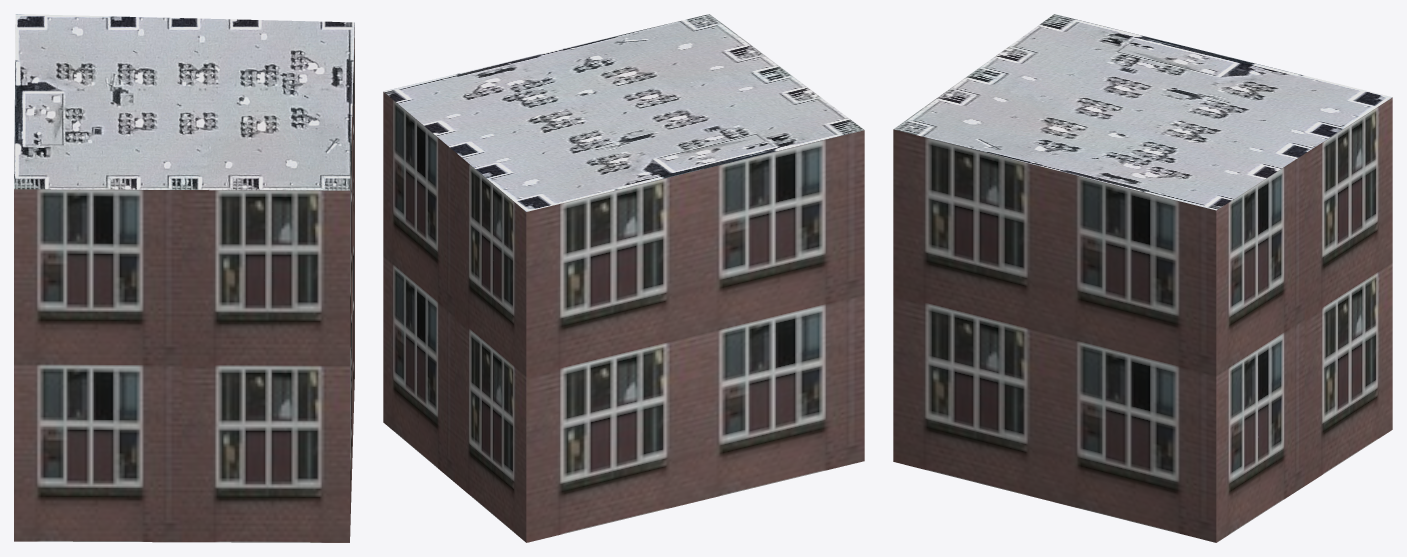
Rendered from ResTex__729.fbx.
3 views of the same model, side by side, from view 1: azimuth 30°, elevation 25°; view 2: azimuth 150°, elevation 25°; view 3: azimuth 270°, elevation 25° (orthographic). The views are drawn at different scales.
Parts seen in each view (by area): view 1: CityEngineMaterial_12_m, CityEngineMaterial_4_m; view 2: CityEngineMaterial_12_m, CityEngineMaterial_4_m; view 3: CityEngineMaterial_12_m, CityEngineMaterial_4_m.
Part boxes in pixels (x1,y1,x2,y2): CityEngineMaterial_12_m: [14, 27, 354, 542]; CityEngineMaterial_4_m: [14, 14, 354, 190]; CityEngineMaterial_12_m: [383, 92, 864, 542]; CityEngineMaterial_4_m: [383, 14, 864, 211]; CityEngineMaterial_12_m: [893, 97, 1392, 542]; CityEngineMaterial_4_m: [893, 14, 1392, 210].
Bounding box in the file's own units: 7.61 × 6 × 8.17.
2 materials, 2 textured.
